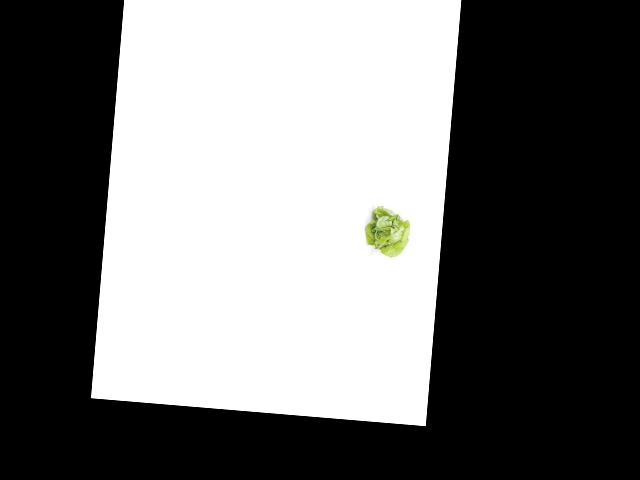lettuce: (360, 203, 416, 259)
